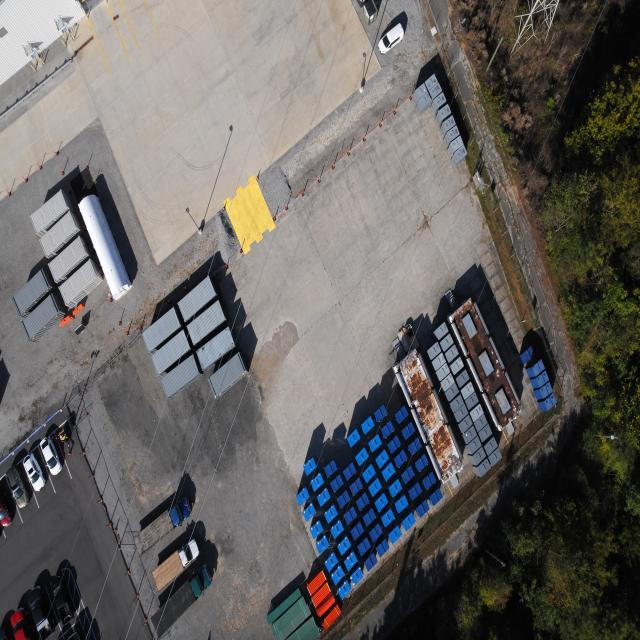Area of Interest: (392, 0, 640, 639), (541, 56, 640, 450)
